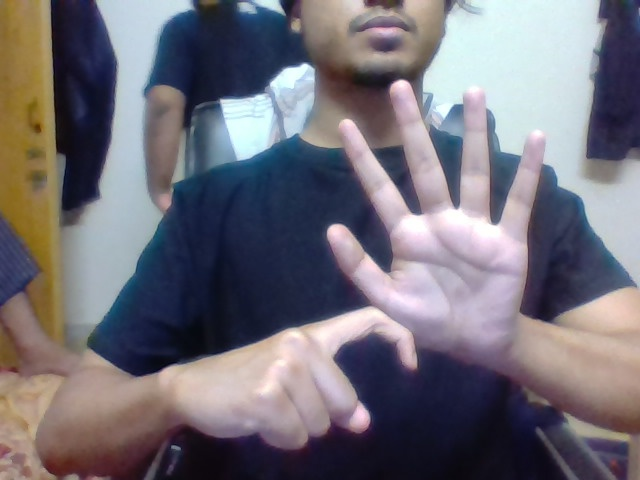R: (289, 302, 418, 437)
